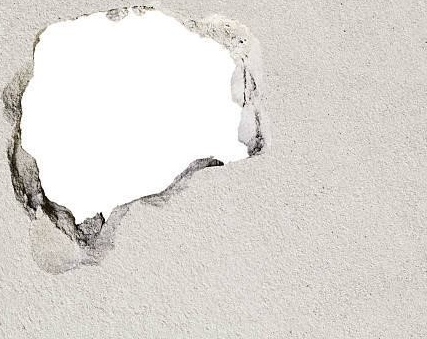Spalling: (1, 4, 264, 249)
